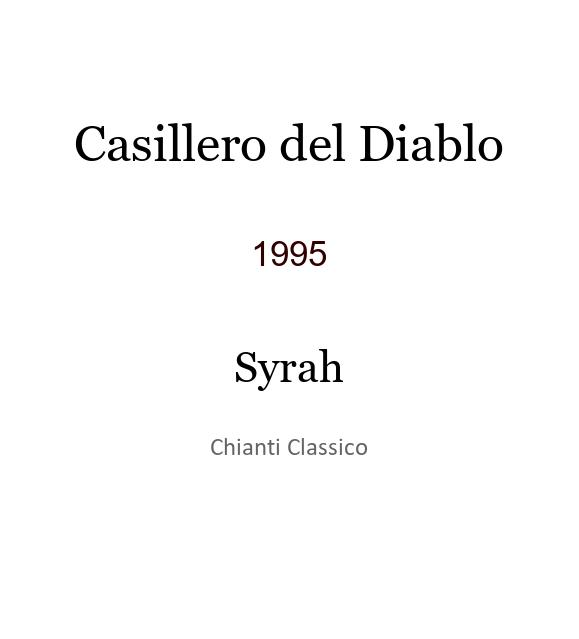brand: (74, 115, 504, 154)
region: (210, 436, 368, 453)
variety: (234, 342, 344, 384)
vintage: (251, 234, 327, 259)
